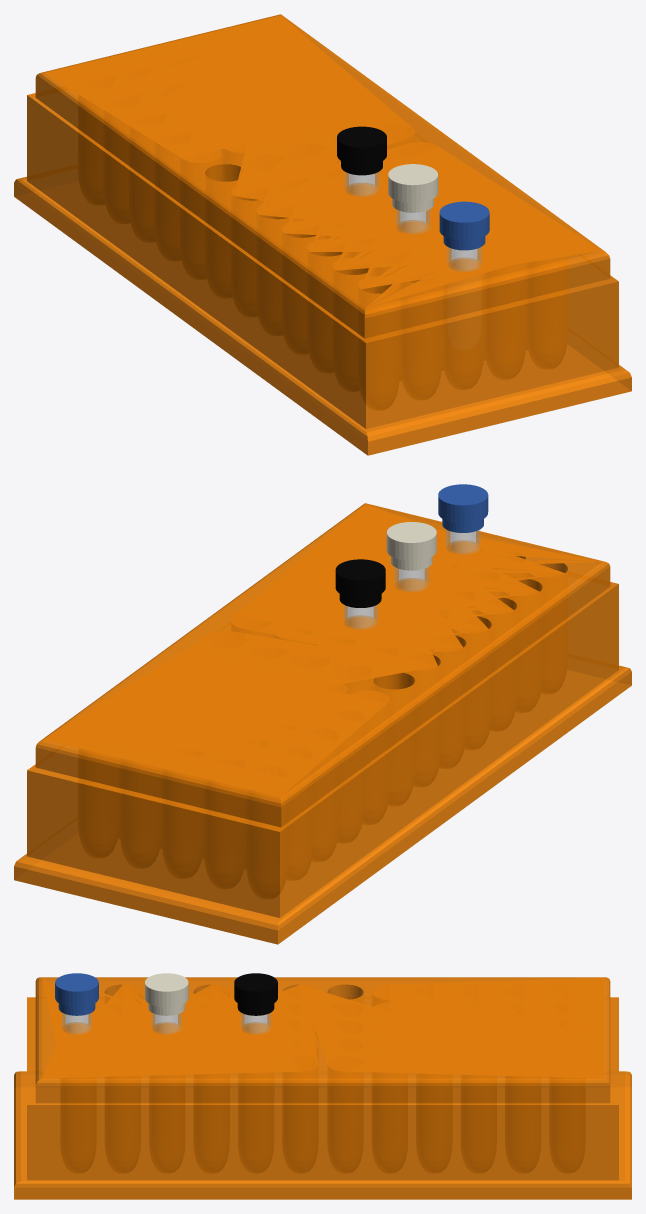
Rendered from 橘黄色盒和三色试管.fbx.
3 views of the same model, one above another, from view 1: azimuth 30°, elevation 25°; view 2: azimuth 150°, elevation 25°; view 3: azimuth 270°, elevation 25° (orthographic). The views are drawn at different scales.
Visible parts, largest first — view 1: 立方体.011, 柱体.011, 柱体.010, 柱体.008; view 2: 立方体.011, 柱体.008, 柱体.011, 柱体.010; view 3: 立方体.011, 柱体.010, 柱体.011, 柱体.008.
Boxes of the visible parts, <box> form: 立方体.011: <box>14,14,631,455</box>; 柱体.011: <box>439,201,489,271</box>; 柱体.010: <box>388,164,438,233</box>; 柱体.008: <box>337,126,386,196</box>; 立方体.011: <box>14,503,631,944</box>; 柱体.008: <box>335,559,385,629</box>; 柱体.011: <box>438,484,488,554</box>; 柱体.010: <box>386,522,436,591</box>; 立方体.011: <box>14,977,631,1199</box>; 柱体.010: <box>145,973,188,1034</box>; 柱体.011: <box>55,973,98,1034</box>; 柱体.008: <box>234,973,277,1034</box>.
Bounding box in the file's own units: 71.21 × 47.61 × 165.
